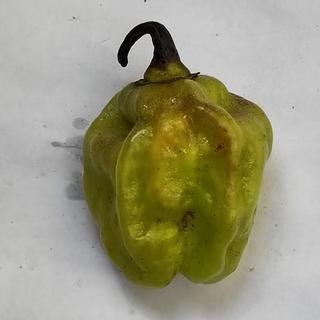Defect: (175, 208, 200, 234)
